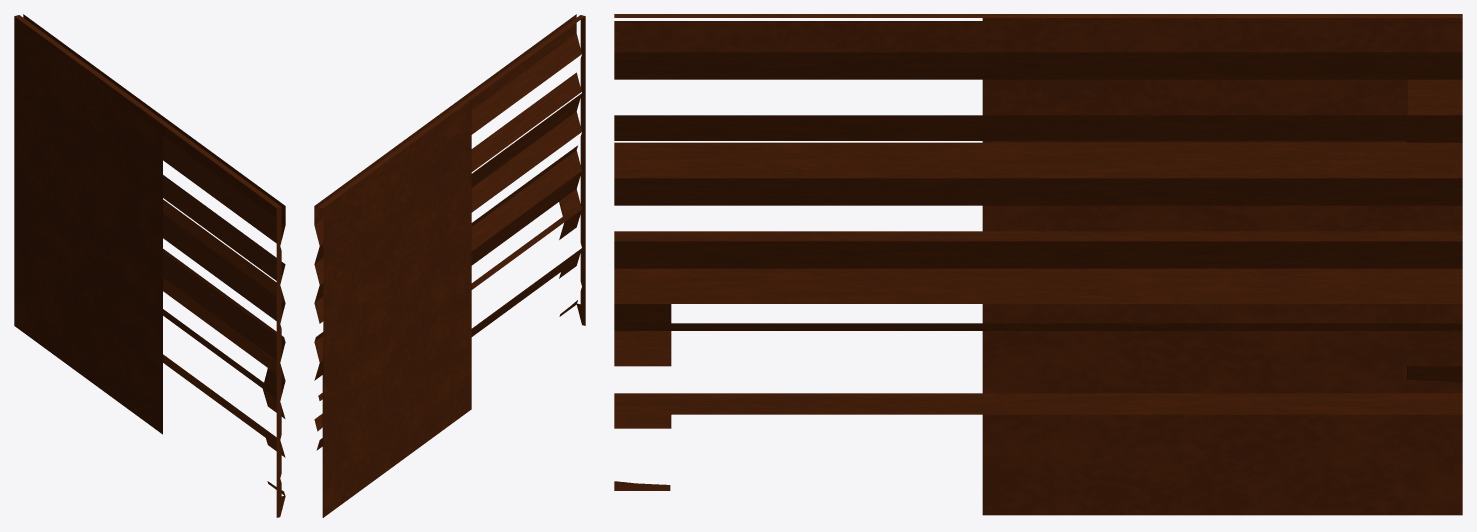
Rendered from Garage Door.fbx.
3 views of the same model, side by side, from view 1: azimuth 30°, elevation 25°; view 2: azimuth 150°, elevation 25°; view 3: azimuth 270°, elevation 25° (orthographic). The views are drawn at different scales.
Visible parts, largest first — view 1: Cube; view 2: Cube; view 3: Cube.
Part boxes in pixels (x1,y1,x2,y2): Cube: [14, 14, 285, 517]; Cube: [314, 14, 585, 517]; Cube: [614, 14, 1462, 515].
Bounding box in the file's own units: 17.4 × 581 × 891.
